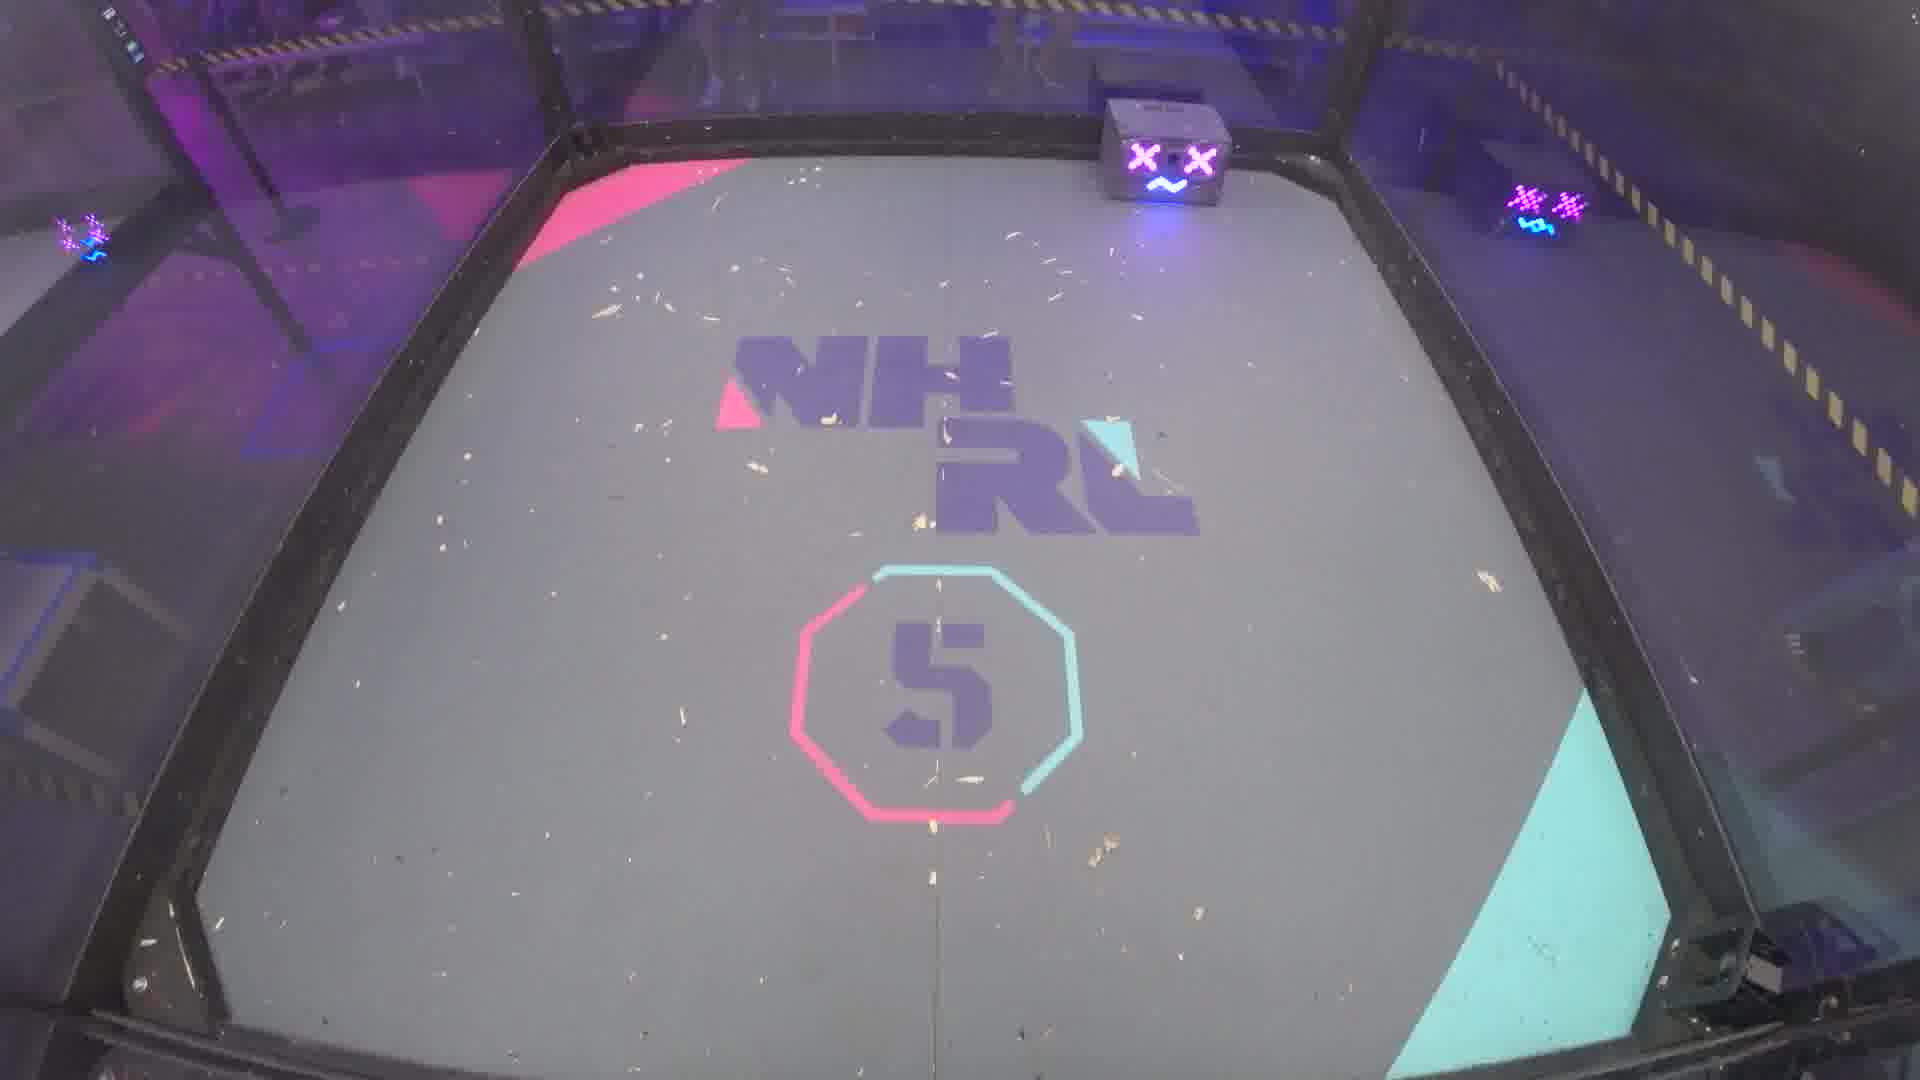housebot: (1093, 100, 1232, 210)
